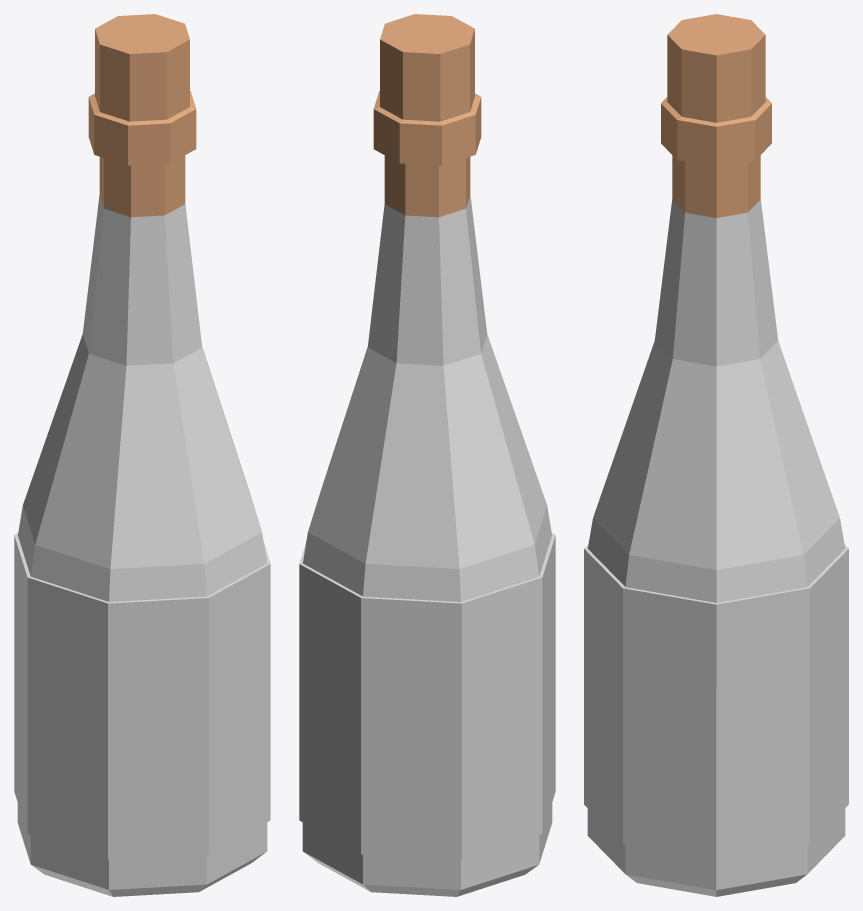
File: Botella_3.fbx
3 renders of one model, left to right at view 1: azimuth 30°, elevation 25°; view 2: azimuth 150°, elevation 25°; view 3: azimuth 270°, elevation 25°, orthographic.
Parts seen in each view (by area): view 1: Botella_3; view 2: Botella_3; view 3: Botella_3.
Boxes of the visible parts, x1,y1,x2,y2 form: Botella_3: [14, 14, 270, 896]; Botella_3: [299, 14, 555, 896]; Botella_3: [584, 14, 848, 896].
Bounding box in the file's own units: 63.46 × 215 × 63.46.
